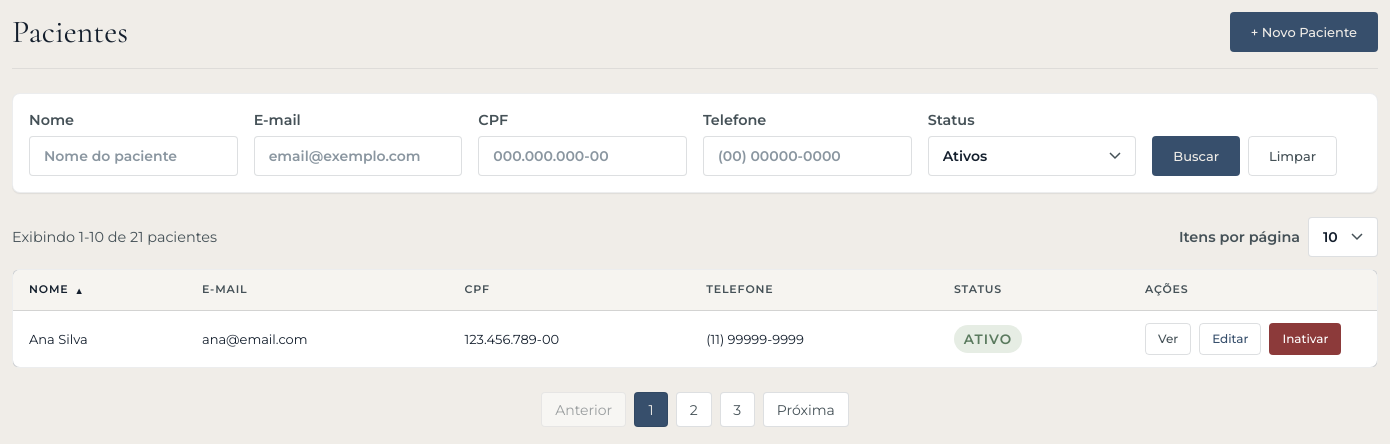
Test case: PacienteListComponent › should mask the CPF and phone filters while keeping digits in the model
Type "52998224725" into the field named "cpf" at {"x": 583, "y": 156}, box [478,136,687,176]
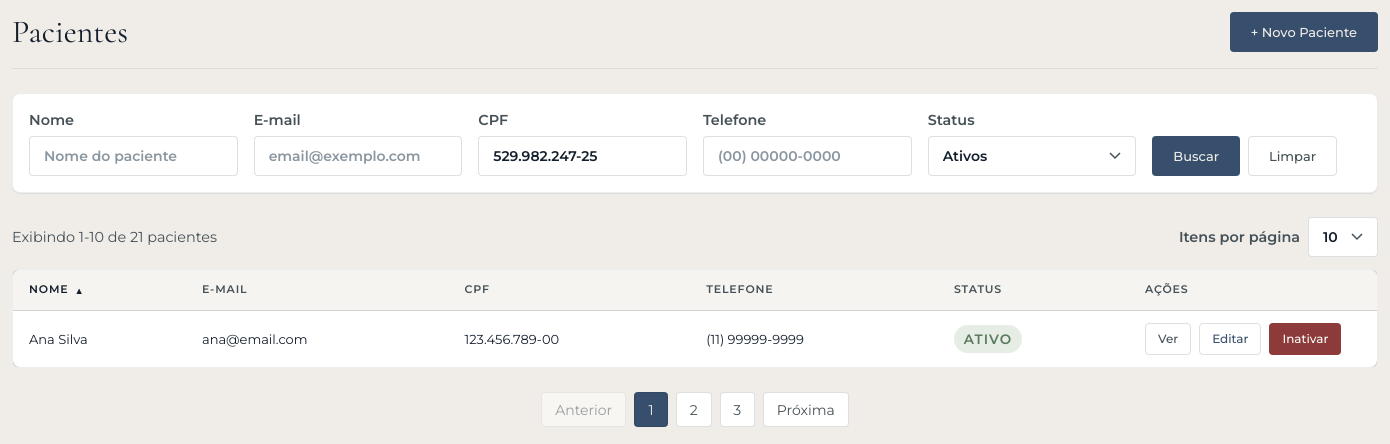
Type "1133334444" into the field named "telefone" at {"x": 807, "y": 156}, box [703,136,912,176]
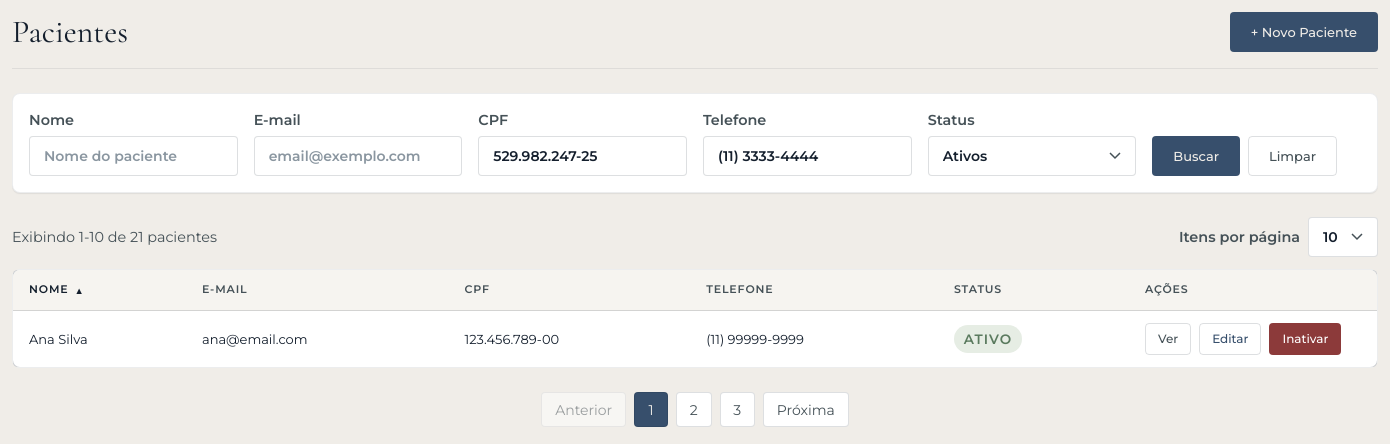
Now the field named "cpf" holds "529.982.247-25", box [478,136,687,176]
Now the field named "telefone" holds "(11) 3333-4444", box [703,136,912,176]
